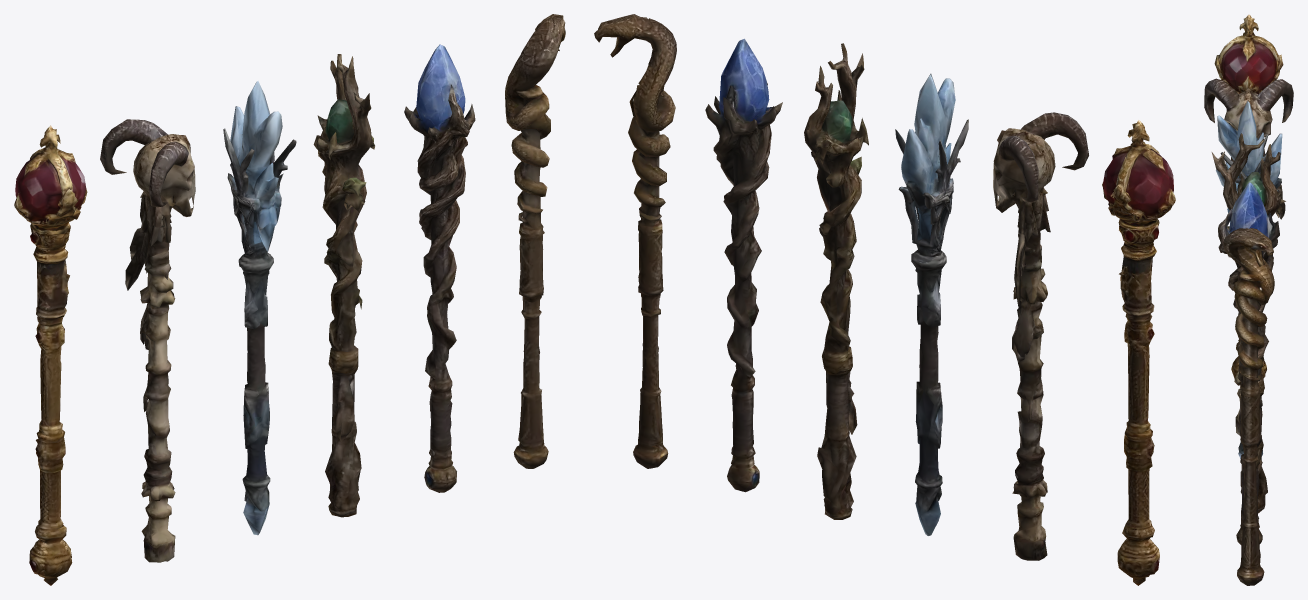
Rendered from weapons_staffs_magic.glb.
The picture shows the model from 3 angles, left to right: view 1: azimuth 30°, elevation 25°; view 2: azimuth 150°, elevation 25°; view 3: azimuth 270°, elevation 25°; orthographic projection. The views are drawn at different scales.
Visible parts, largest first — view 1: staff_bone, sceptre_royal, staff_druid, staff_wizard, staff_ice, staff_serpent; view 2: staff_bone, staff_druid, sceptre_royal, staff_wizard, staff_ice, staff_serpent; view 3: staff_serpent, sceptre_royal, staff_wizard, staff_bone, staff_druid, staff_ice.
Boxes of the visible parts, x1=… form: staff_bone: x1=100, y1=119, x2=195, y2=562; sceptre_royal: x1=14, y1=125, x2=87, y2=585; staff_druid: x1=313, y1=54, x2=374, y2=517; staff_wizard: x1=404, y1=44, x2=475, y2=492; staff_ice: x1=223, y1=81, x2=296, y2=535; staff_serpent: x1=505, y1=14, x2=565, y2=468; staff_bone: x1=993, y1=112, x2=1088, y2=560; staff_druid: x1=804, y1=43, x2=868, y2=519; sceptre_royal: x1=1102, y1=120, x2=1175, y2=585; staff_wizard: x1=705, y1=38, x2=782, y2=492; staff_ice: x1=895, y1=73, x2=968, y2=535; staff_serpent: x1=594, y1=14, x2=676, y2=468; staff_serpent: x1=1223, y1=228, x2=1274, y2=585; sceptre_royal: x1=1214, y1=14, x2=1283, y2=379; staff_wizard: x1=1218, y1=182, x2=1279, y2=544; staff_bone: x1=1204, y1=78, x2=1293, y2=435; staff_druid: x1=1211, y1=133, x2=1285, y2=513; staff_ice: x1=1216, y1=101, x2=1282, y2=458.
Bounding box in the file's own units: 0.8649 × 0.6796 × 0.146.
1 material, 1 textured.
